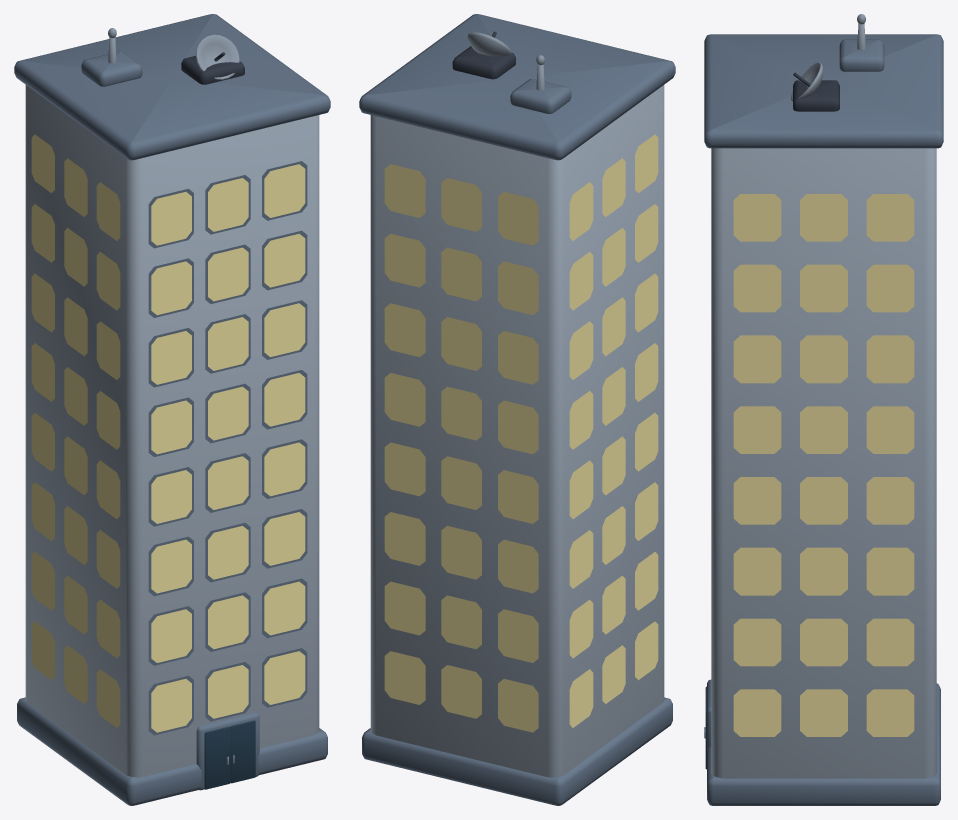
The model's file is deco-edificio-a.glb.
3 renders of one model, left to right at view 1: azimuth 30°, elevation 25°; view 2: azimuth 150°, elevation 25°; view 3: azimuth 270°, elevation 25°, orthographic.
Parts seen in each view (by area): view 1: deco-edificio-a; view 2: deco-edificio-a; view 3: deco-edificio-a.
Boxes of the visible parts, bbox=[...] form: deco-edificio-a: bbox=[14, 14, 330, 805]; deco-edificio-a: bbox=[359, 14, 675, 805]; deco-edificio-a: bbox=[704, 14, 943, 805].
Bounding box in the file's own units: 12 × 40 × 12.
